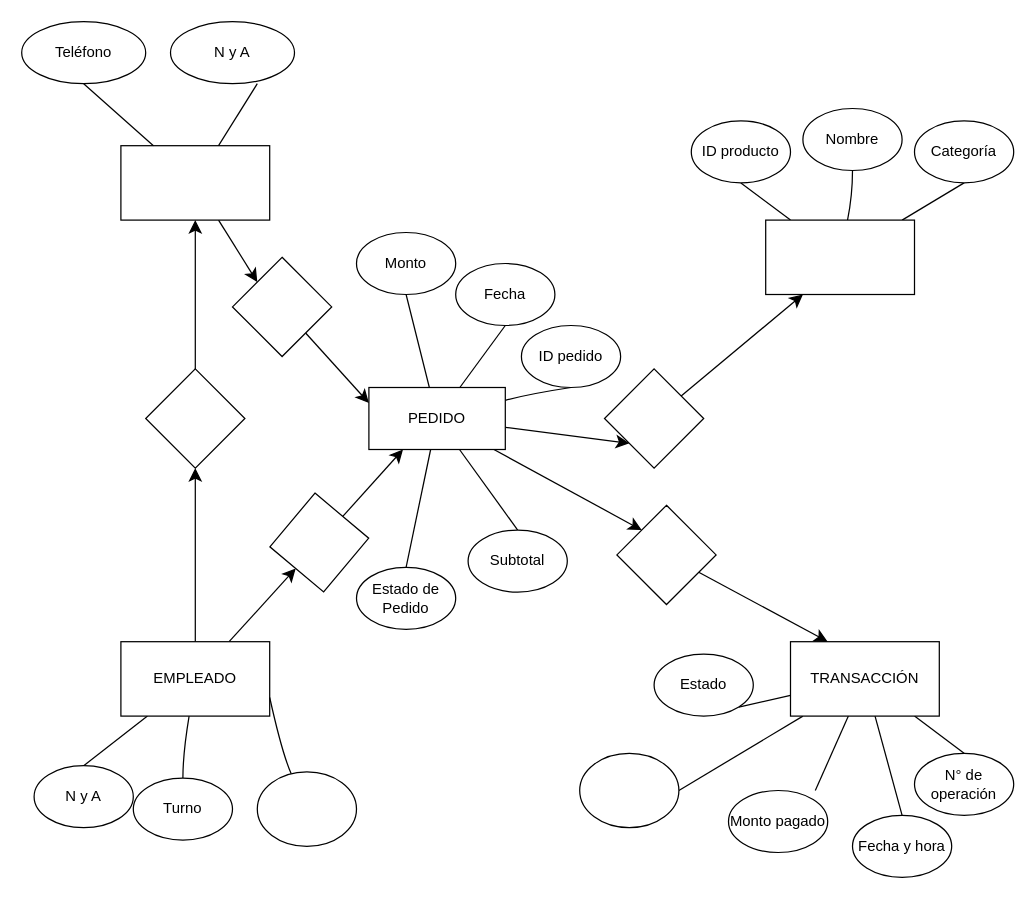
Some shapes in this 1035 by 899 pixel diagram are drawn without their labels. Here are the shapes that lost their labels. From the top down, the box of each, then its label:
(120, 144, 270, 220): CLIENTE
(764, 219, 914, 294): PRODUCTO
(231, 256, 332, 356): Realiza
(144, 368, 245, 468): Atiende
(603, 368, 704, 468): Contiene
(264, 487, 373, 596): Gestiona
(616, 504, 716, 604): Genera
(256, 771, 356, 846): ID empleado
(578, 752, 679, 828): Medio de Pago
